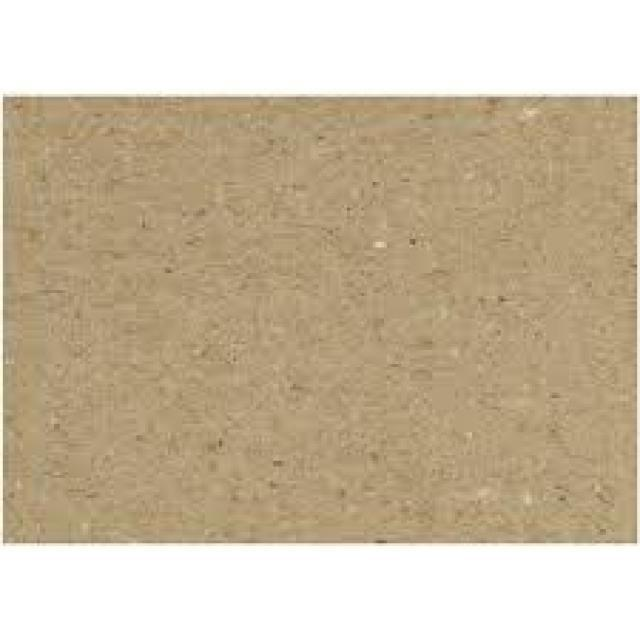cardboard paper: (3, 96, 635, 540)
